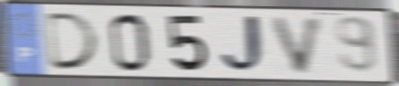0: (107, 12, 152, 73)
5: (165, 14, 209, 74)
9: (335, 14, 380, 79)
D: (44, 11, 103, 71)
J: (219, 13, 271, 75)
V: (269, 15, 328, 76)
